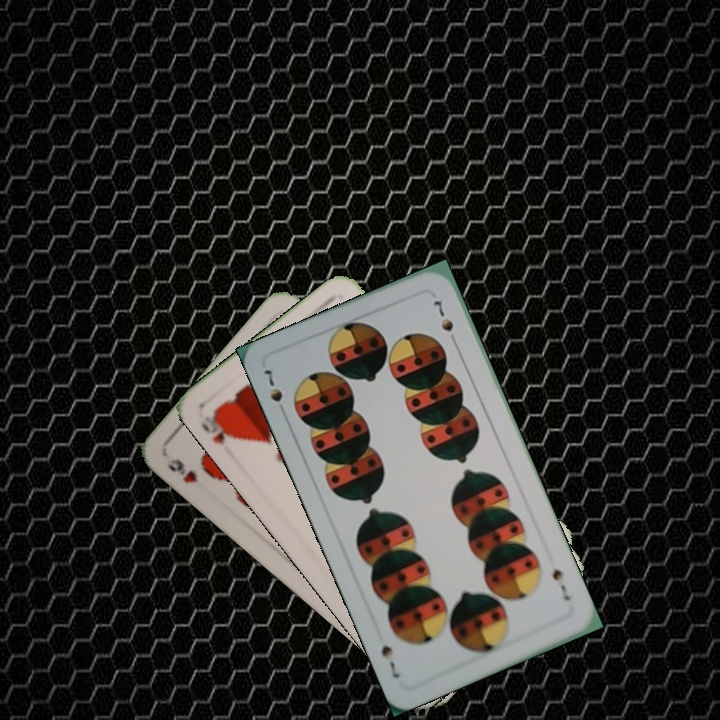H9: (163, 454, 201, 486)
HO: (196, 406, 238, 448)
S7: (260, 365, 289, 420), (548, 564, 573, 603)
